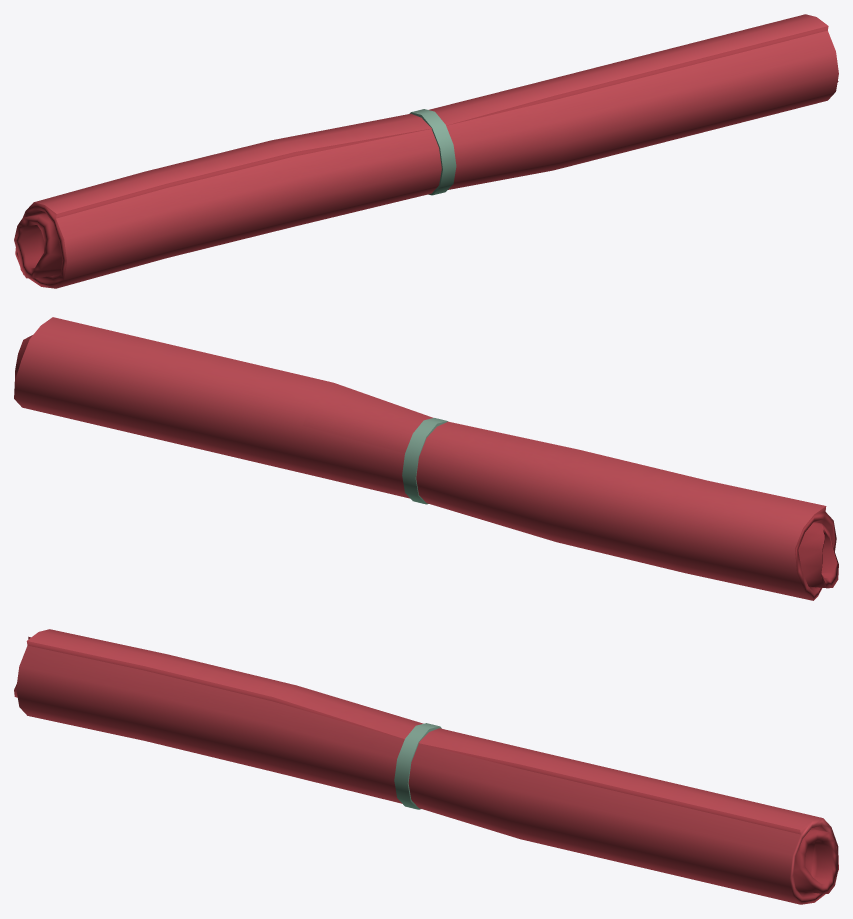
File: Prop_CarpetRoll.fbx
The picture shows the model from 3 angles, top to bottom: view 1: azimuth 30°, elevation 25°; view 2: azimuth 150°, elevation 25°; view 3: azimuth 330°, elevation 25°; orthographic projection.
Visible parts, largest first — view 1: Prop_CarpetRoll; view 2: Prop_CarpetRoll; view 3: Prop_CarpetRoll.
Boxes of the visible parts, x1,y1,x2,y2 form: Prop_CarpetRoll: (14,14,838,288); Prop_CarpetRoll: (14,317,838,600); Prop_CarpetRoll: (14,629,838,904).
Bounding box in the file's own units: 1234 × 118 × 137.
